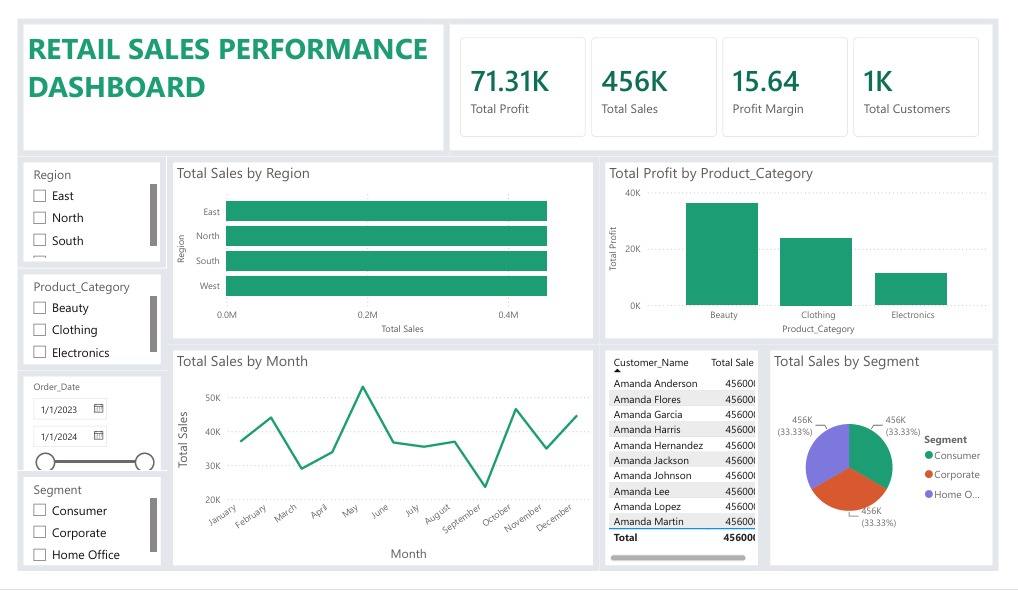

What the dashboard file says about the page in this screenshot:
{"tool":"powerbi","page":{"name":"Page 1","canvas":[1280,720],"ordinal":0},"visuals":[{"type":"cardVisual","fields":{"Data":["Customers.Total Profit","Customers.Total Sales","Customers.Profit Margin","Customers.Total Customers"]},"box":[552.7,0,727.3,179.7],"z":0},{"type":"textbox","box":[0,0,564.4,179.7],"z":1},{"type":"barChart","fields":{"Category":["Customers.Region"],"Y":["Customers.Total Sales"]},"box":[194.9,179.7,564.4,245.2],"z":2},{"type":"columnChart","fields":{"Category":["Orders.Product_Category"],"Y":["Customers.Total Profit"]},"box":[759.3,179.7,520.7,245.2],"z":3},{"type":"lineChart","fields":{"Category":["Orders.Order_Date.Variation.Date Hierarchy.Month"],"Y":["Customers.Total Sales"]},"box":[194.9,425,564.4,295.6],"z":4},{"type":"tableEx","fields":{"Values":["Customers.Customer_Name","Customers.Total Sales"]},"box":[759.3,425,215,295.6],"z":5},{"type":"pieChart","fields":{"Category":["Customers.Segment"],"Y":["Customers.Total Sales"]},"box":[974.3,425,305.7,295.6],"z":6},{"type":"slicer","fields":{"Values":["Customers.Region"]},"box":[0,180,194.4,145.4],"z":7},{"type":"slicer","fields":{"Values":["Orders.Product_Category"]},"box":[0,325.9,194.9,132.7],"z":8},{"type":"slicer","fields":{"Values":["Orders.Order_Date"]},"box":[0,458.6,194.9,152.9],"z":9},{"type":"slicer","fields":{"Values":["Customers.Segment"]},"box":[0,589.6,194.9,131],"z":10}]}

Visuals, with their boxes in screenshot pixels (x1, y1, x2, y2), scaled from the page's 1280x720 canvas onto the 1018x590 screenshot:
cardVisual - Customers.Total Profit x Customers.Total Sales: 440:0:1017:147
textbox: 0:0:449:147
barChart - Customers.Region x Customers.Total Sales: 155:147:604:348
columnChart - Orders.Product_Category x Customers.Total Profit: 604:147:1017:348
lineChart - Orders.Order_Date.Variation.Date Hierarchy.Month x Customers.Total Sales: 155:348:604:589
tableEx - Customers.Customer_Name x Customers.Total Sales: 604:348:775:589
pieChart - Customers.Segment x Customers.Total Sales: 775:348:1017:589
slicer - Customers.Region: 0:148:155:267
slicer - Orders.Product_Category: 0:267:155:376
slicer - Orders.Order_Date: 0:376:155:501
slicer - Customers.Segment: 0:483:155:589
